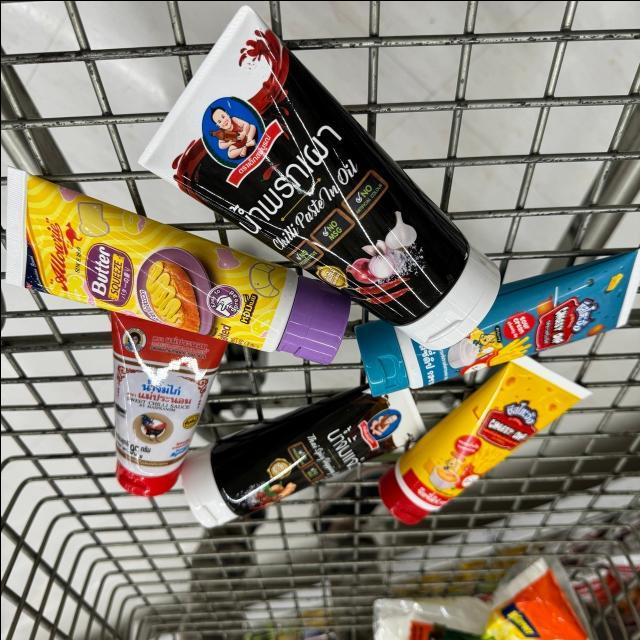Squeeze Tube: (129, 1, 507, 363), (0, 161, 353, 377), (354, 243, 639, 403), (368, 357, 598, 535), (178, 393, 430, 532), (113, 318, 226, 498)
